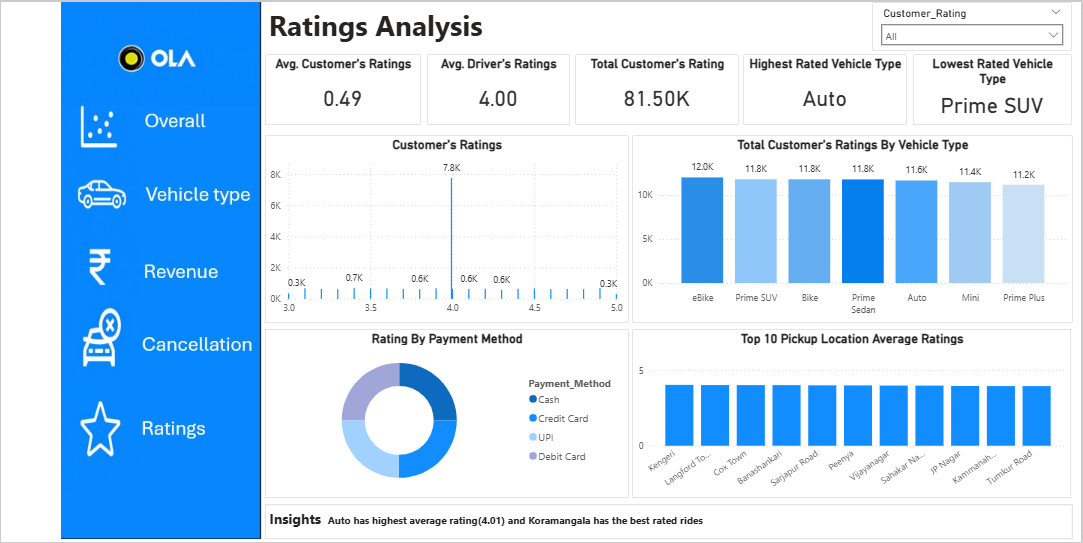

What the dashboard file says about the page in this screenshot:
{"tool":"powerbi","page":{"name":"Ratings","canvas":[1440,720],"ordinal":4},"visuals":[{"type":"actionButton","box":[80.8,405.8,255.8,128.8],"z":0},{"type":"actionButton","box":[80.8,313.5,255.8,90.4],"z":1000},{"type":"actionButton","box":[80.8,134.6,255.8,88.5],"z":2000},{"type":"actionButton","box":[80.8,198.1,255.8,130.8],"z":3000},{"type":"textbox","box":[351.9,0,496.2,69.2],"z":4000},{"type":"card","title":"Avg. Customer''s Ratings","fields":{"Values":["Avg(July.Customer_Rating)"]},"box":[351.9,69.2,207.7,94.2],"z":5000},{"type":"card","title":"Avg. Driver''s Ratings","fields":{"Values":["Avg(Sheet1.Driver_Ratings)"]},"box":[567.3,69.2,190.4,94.2],"z":6000},{"type":"card","title":"Total Customer''s Rating","fields":{"Values":["Sum(Sheet1.Customer_Rating)"]},"box":[765.4,69.2,217.3,94.2],"z":7000},{"type":"slicer","fields":{"Values":["Sheet1.Customer_Rating"]},"box":[1161.5,0,265.4,65.4],"z":8000},{"type":"donutChart","title":"Rating By Payment Method","fields":{"Category":["Sheet1.Payment_Method"],"Y":["Avg(Sheet1.Customer_Rating)"]},"box":[351.9,436.5,484.6,225],"z":9000},{"type":"clusteredColumnChart","title":"Top 10 Pickup Location Average Ratings","fields":{"Y":["Avg(Sheet1.Customer_Rating)"],"Category":["Sheet1.Pickup_Location"]},"box":[842.3,436.5,584.6,225],"z":10000},{"type":"card","title":"Highest Rated Vehicle Type","fields":{"Values":["Min(Sheet1.Vehicle_Type)"]},"box":[990.4,69.2,217.3,94.2],"z":11000},{"type":"clusteredColumnChart","title":"Customer''s Ratings","fields":{"Category":["Sheet1.Customer_Rating"],"Y":["CountNonNull(Sheet1.Customer_ID)"]},"box":[351.9,178.8,484.6,250],"z":12000},{"type":"clusteredColumnChart","title":"Total Customer''s Ratings By Vehicle Type","fields":{"Category":["Sheet1.Vehicle_Type"],"Y":["Sum(Sheet1.Driver_Ratings)"]},"box":[842.3,178.8,586.5,250],"z":13000},{"type":"card","title":"Lowest Rated Vehicle Type","fields":{"Values":["Max(Sheet1.Vehicle_Type)"]},"box":[1215.4,69.2,211.5,94.2],"z":13001},{"type":"textbox","box":[351.9,669.2,1076.9,46.2],"z":13002}]}

Visuals, with their boxes in screenshot pixels (x1, y1, x2, y2), scaled from the page's 1440x720 canvas onto the 1083x543 screenshot:
actionButton: [left=61, top=306, right=253, bottom=403]
actionButton: [left=61, top=236, right=253, bottom=305]
actionButton: [left=61, top=102, right=253, bottom=168]
actionButton: [left=61, top=149, right=253, bottom=248]
textbox: [left=265, top=0, right=638, bottom=52]
"Avg. Customer''s Ratings" card: [left=265, top=52, right=421, bottom=123]
"Avg. Driver''s Ratings" card: [left=427, top=52, right=570, bottom=123]
"Total Customer''s Rating" card: [left=576, top=52, right=739, bottom=123]
slicer - Sheet1.Customer_Rating: [left=874, top=0, right=1073, bottom=49]
"Rating By Payment Method" donutChart: [left=265, top=329, right=629, bottom=499]
"Top 10 Pickup Location Average Ratings" clusteredColumnChart: [left=633, top=329, right=1073, bottom=499]
"Highest Rated Vehicle Type" card: [left=745, top=52, right=908, bottom=123]
"Customer''s Ratings" clusteredColumnChart: [left=265, top=135, right=629, bottom=323]
"Total Customer''s Ratings By Vehicle Type" clusteredColumnChart: [left=633, top=135, right=1075, bottom=323]
"Lowest Rated Vehicle Type" card: [left=914, top=52, right=1073, bottom=123]
textbox: [left=265, top=505, right=1075, bottom=540]
